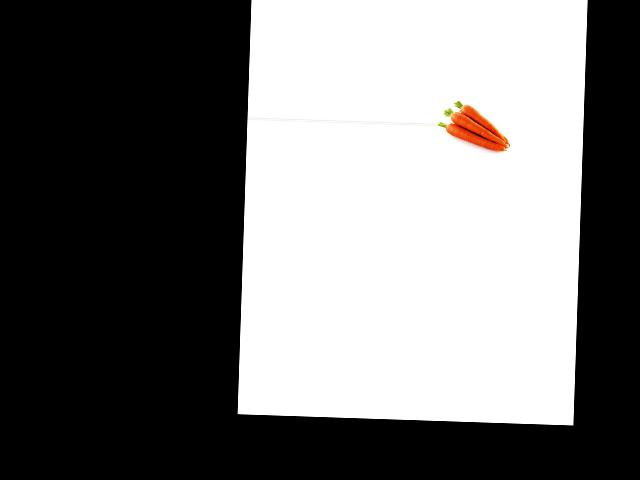carrot: (447, 121, 504, 150)
